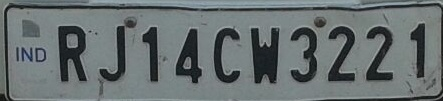character: (248, 22, 280, 84), (56, 22, 88, 82), (326, 24, 357, 82), (365, 24, 396, 81), (212, 26, 242, 84), (174, 26, 203, 85), (288, 25, 317, 82), (98, 23, 125, 81), (408, 20, 428, 80), (140, 23, 160, 81)
